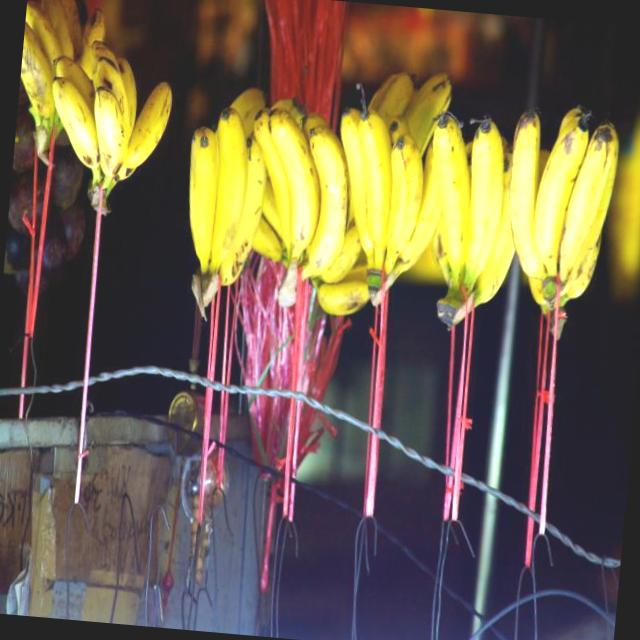Banana: (498, 98, 620, 334), (232, 95, 368, 304), (34, 35, 183, 222), (322, 105, 443, 312), (416, 110, 524, 334), (170, 97, 273, 313)
